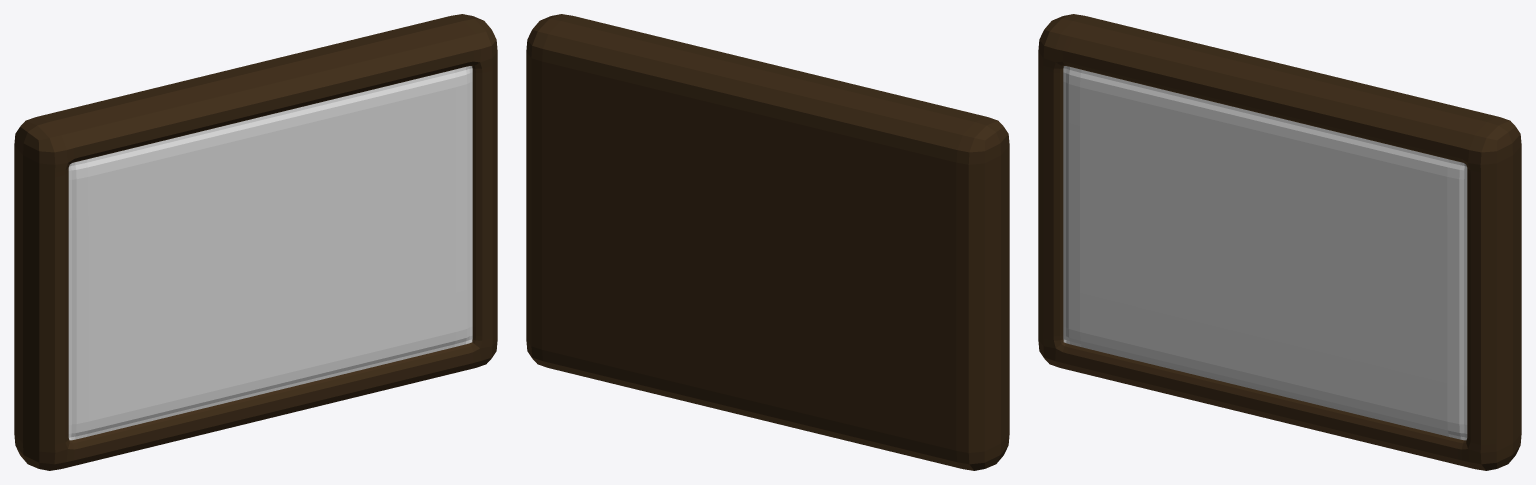
Rendered from screen.fbx.
The picture shows the model from 3 angles, left to right: view 1: azimuth 30°, elevation 25°; view 2: azimuth 150°, elevation 25°; view 3: azimuth 330°, elevation 25°; orthographic projection.
Visible parts, largest first — view 1: Screen.001; view 2: Screen.001; view 3: Screen.001.
Boxes of the visible parts, x1,y1,x2,y2 form: Screen.001: (14,14,497,470); Screen.001: (526,14,1009,470); Screen.001: (1038,14,1521,470).
Bounding box in the file's own units: 74.67 × 52.34 × 10.2.
